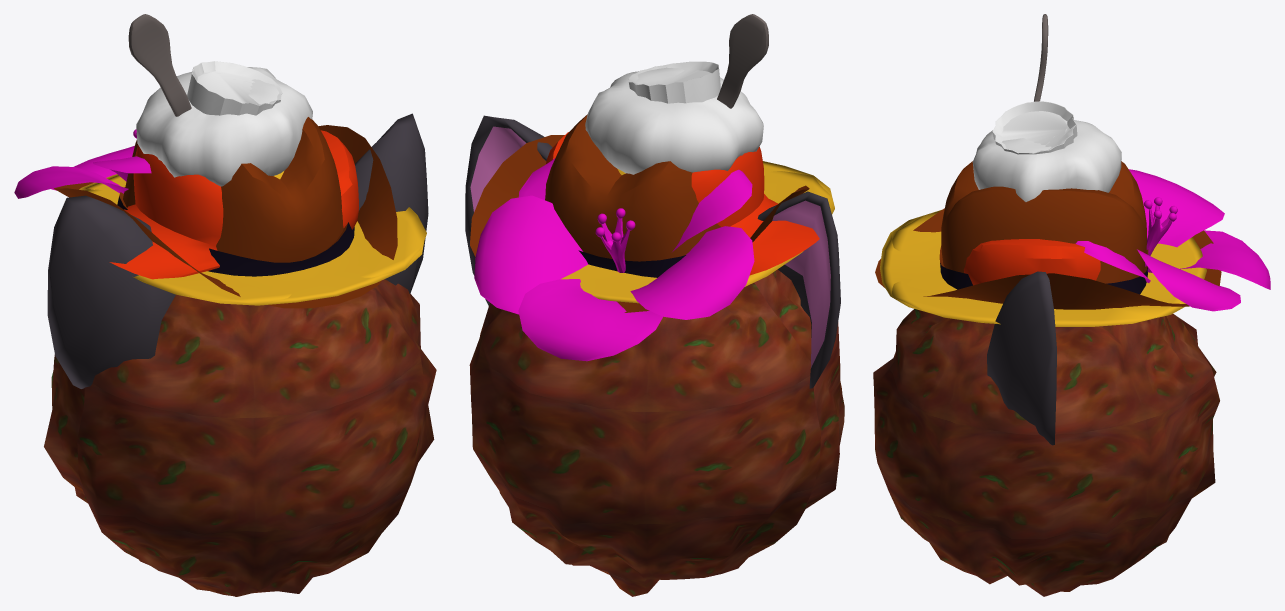
File: Hats.fbx
The picture shows the model from 3 angles, left to right: view 1: azimuth 30°, elevation 25°; view 2: azimuth 150°, elevation 25°; view 3: azimuth 270°, elevation 25°; orthographic projection. The views are drawn at different scales.
Parts seen in each view (by area): view 1: Almondega1, Orelha De gato, Chapeu Cowboy, Chapeu Gordo, Chapeu Mario, Straw hat, Chapeu Alto, Rosa, Garfo; view 2: Almondega1, Rosa, Chapeu Cowboy, Chapeu Gordo, Orelha De gato, Chapeu Mario, Straw hat, Chapeu Alto, Garfo; view 3: Almondega1, Chapeu Cowboy, Straw hat, Rosa, Orelha De gato, Chapeu Gordo, Chapeu Mario, Chapeu Alto, Garfo.
Part boxes in pixels (box(x1,y1,x2,y2)): Almondega1: box(44, 279, 436, 596); Orelha De gato: box(47, 113, 428, 388); Chapeu Cowboy: box(53, 117, 397, 308); Chapeu Gordo: box(136, 67, 312, 186); Chapeu Mario: box(109, 130, 359, 279); Straw hat: box(79, 171, 426, 305); Chapeu Alto: box(187, 61, 282, 115); Rosa: box(14, 129, 151, 198); Garfo: box(128, 14, 191, 116); Almondega1: box(469, 269, 844, 596); Rosa: box(474, 158, 754, 361); Chapeu Cowboy: box(470, 114, 809, 312); Chapeu Gordo: box(585, 67, 763, 174); Orelha De gato: box(465, 115, 840, 388); Chapeu Mario: box(546, 132, 819, 275); Straw hat: box(561, 161, 834, 303); Chapeu Alto: box(628, 61, 720, 103); Garfo: box(717, 14, 768, 108); Almondega1: box(873, 309, 1219, 596); Chapeu Cowboy: box(875, 161, 1221, 309); Straw hat: box(880, 210, 1206, 326); Rosa: box(1075, 169, 1270, 311); Orelha De gato: box(987, 271, 1056, 445); Chapeu Gordo: box(972, 120, 1121, 201); Chapeu Mario: box(963, 239, 1100, 285); Chapeu Alto: box(992, 101, 1077, 154); Garfo: box(1034, 14, 1048, 101).
Size of the model in its own units: 235 by 350 by 243.
